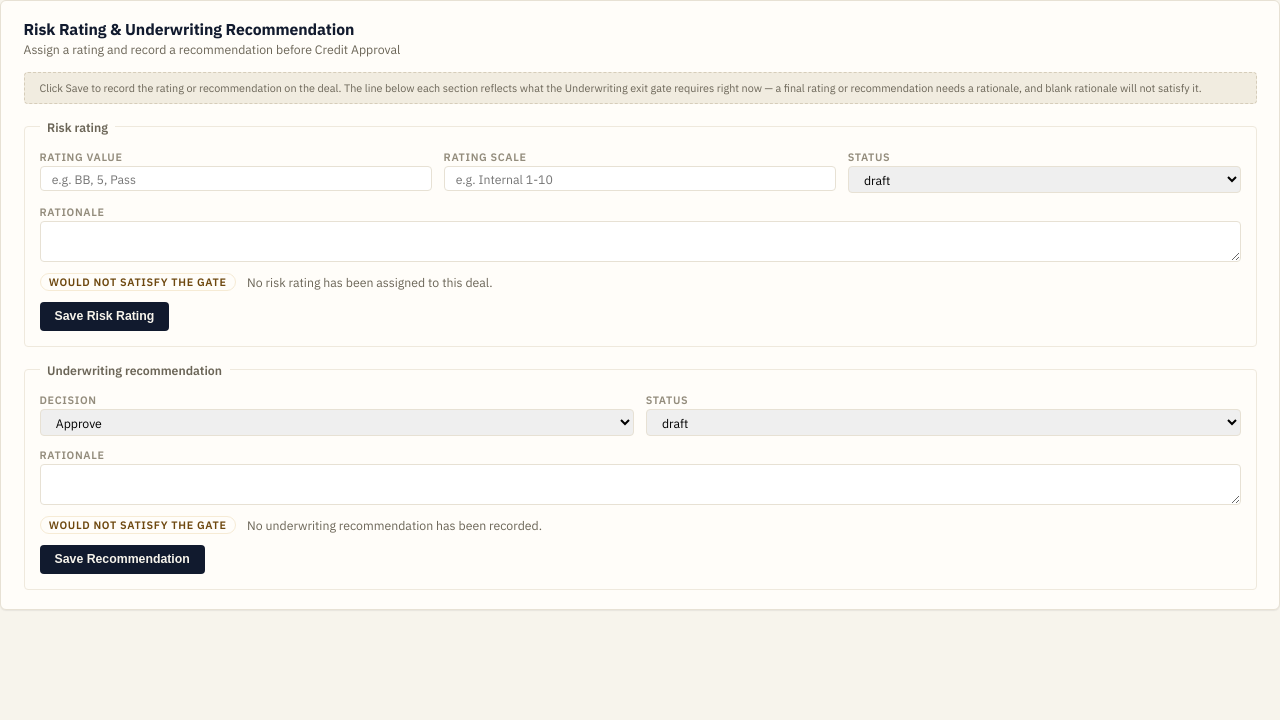
Test: DealRiskRatingPanel › N-14: an assigned rating with BLANK rationale does NOT satisfy the gate
Type "5" into the field labelled "Rating value" at (236, 179), box [40,166,432,191]
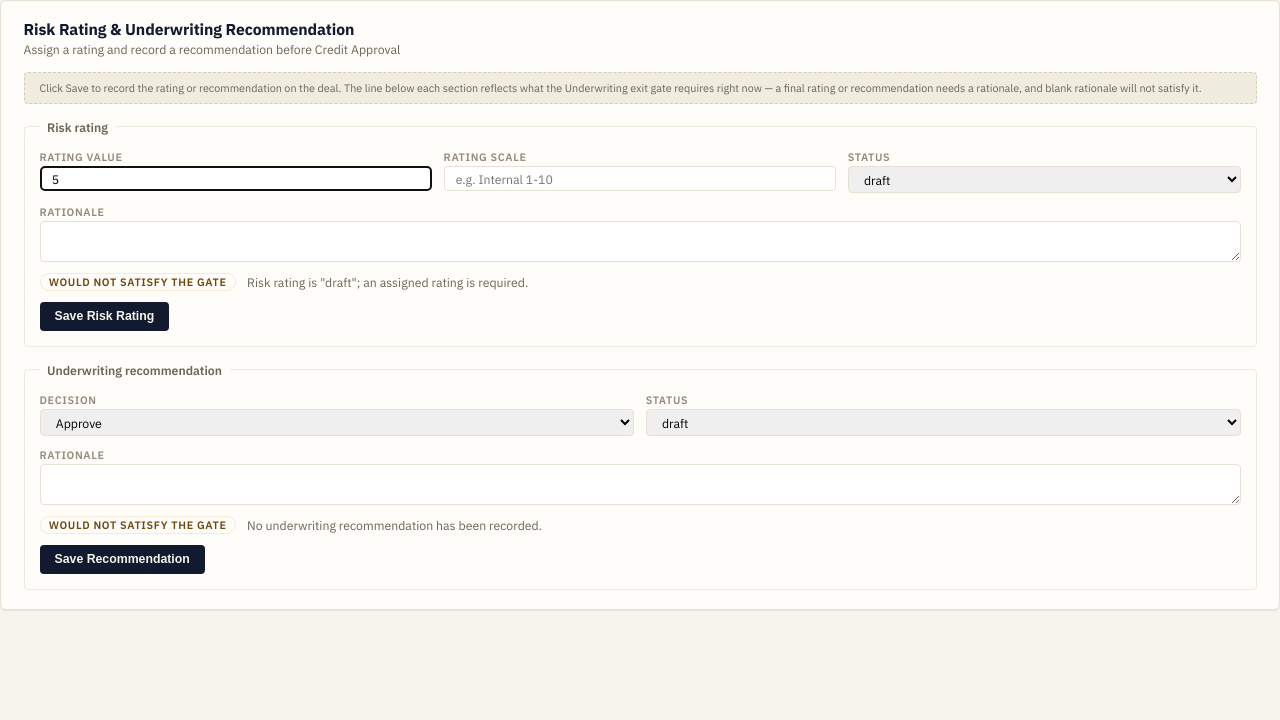
Type "Internal 1-10" into the field labelled "Rating scale" at (640, 179), box [444,166,836,191]
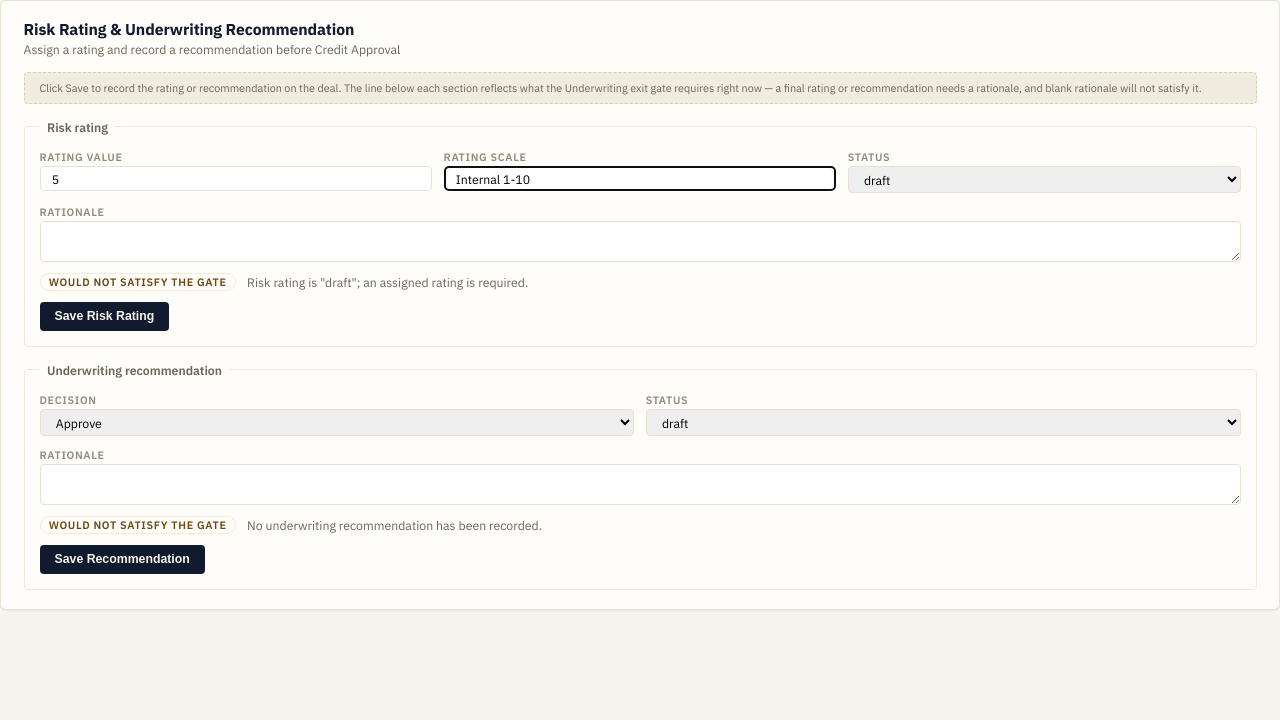
Select "assigned" in the 1st dropdown labelled "Status" at (1044, 180), box [848,166,1240,193]
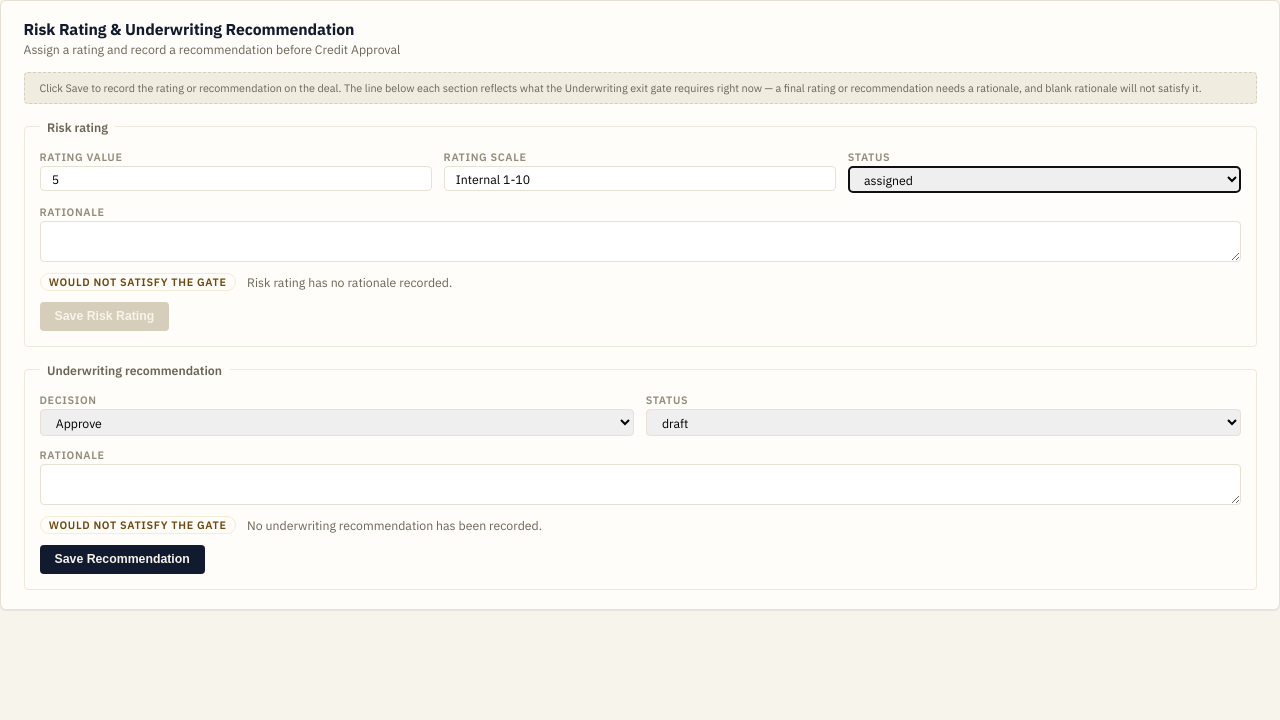
Check: the text "Would NOT satisfy the gate" is shown, box [49,274,227,288]
Check: the text "rationale" is shown, box [247,274,452,290]
Check: the button "Save Risk Rating" is disabled, box [40,302,169,331]
